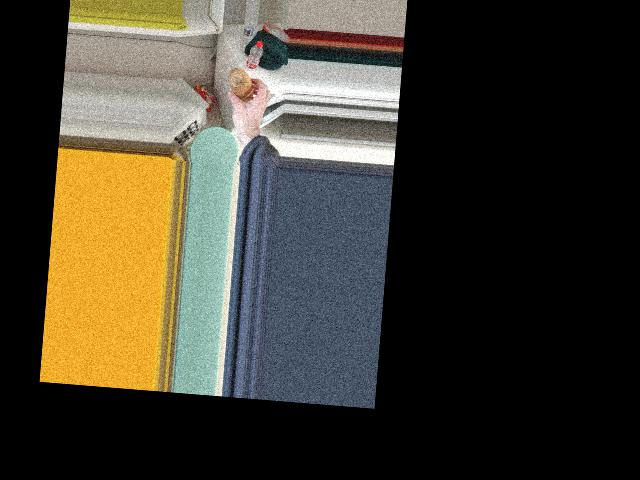sweet_potato: (226, 67, 257, 103)
